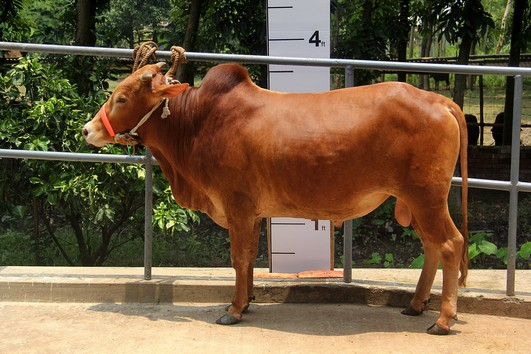cow: (77, 50, 469, 340)
